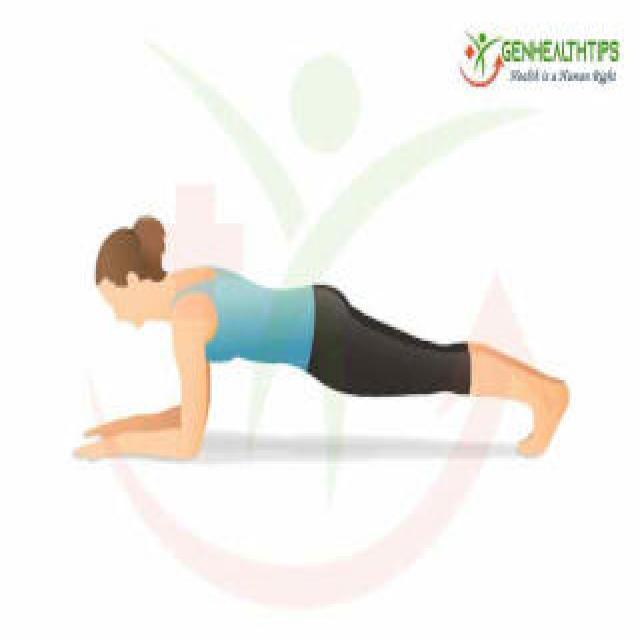yoga-pose plank: (84, 213, 568, 467)
